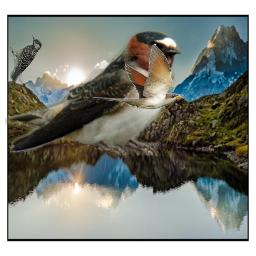Cuckoo: (92, 45, 184, 109)
Swallow: (5, 25, 188, 160)
Woodpecker: (10, 33, 42, 84)
